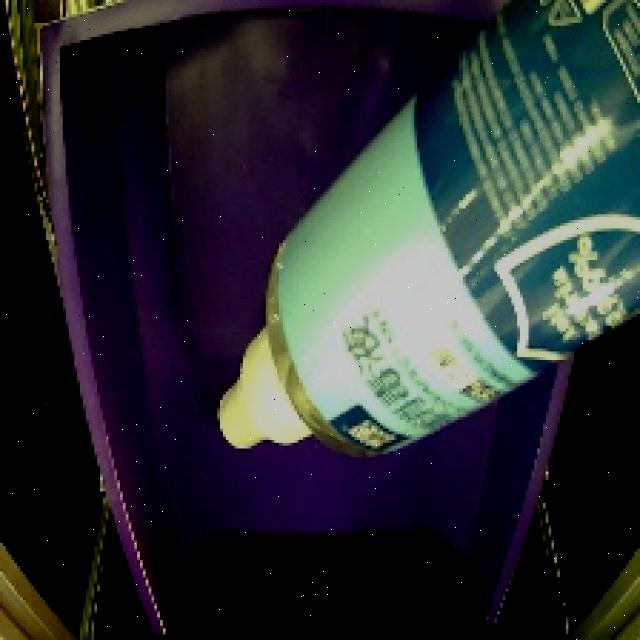plastic: (209, 0, 640, 477)
